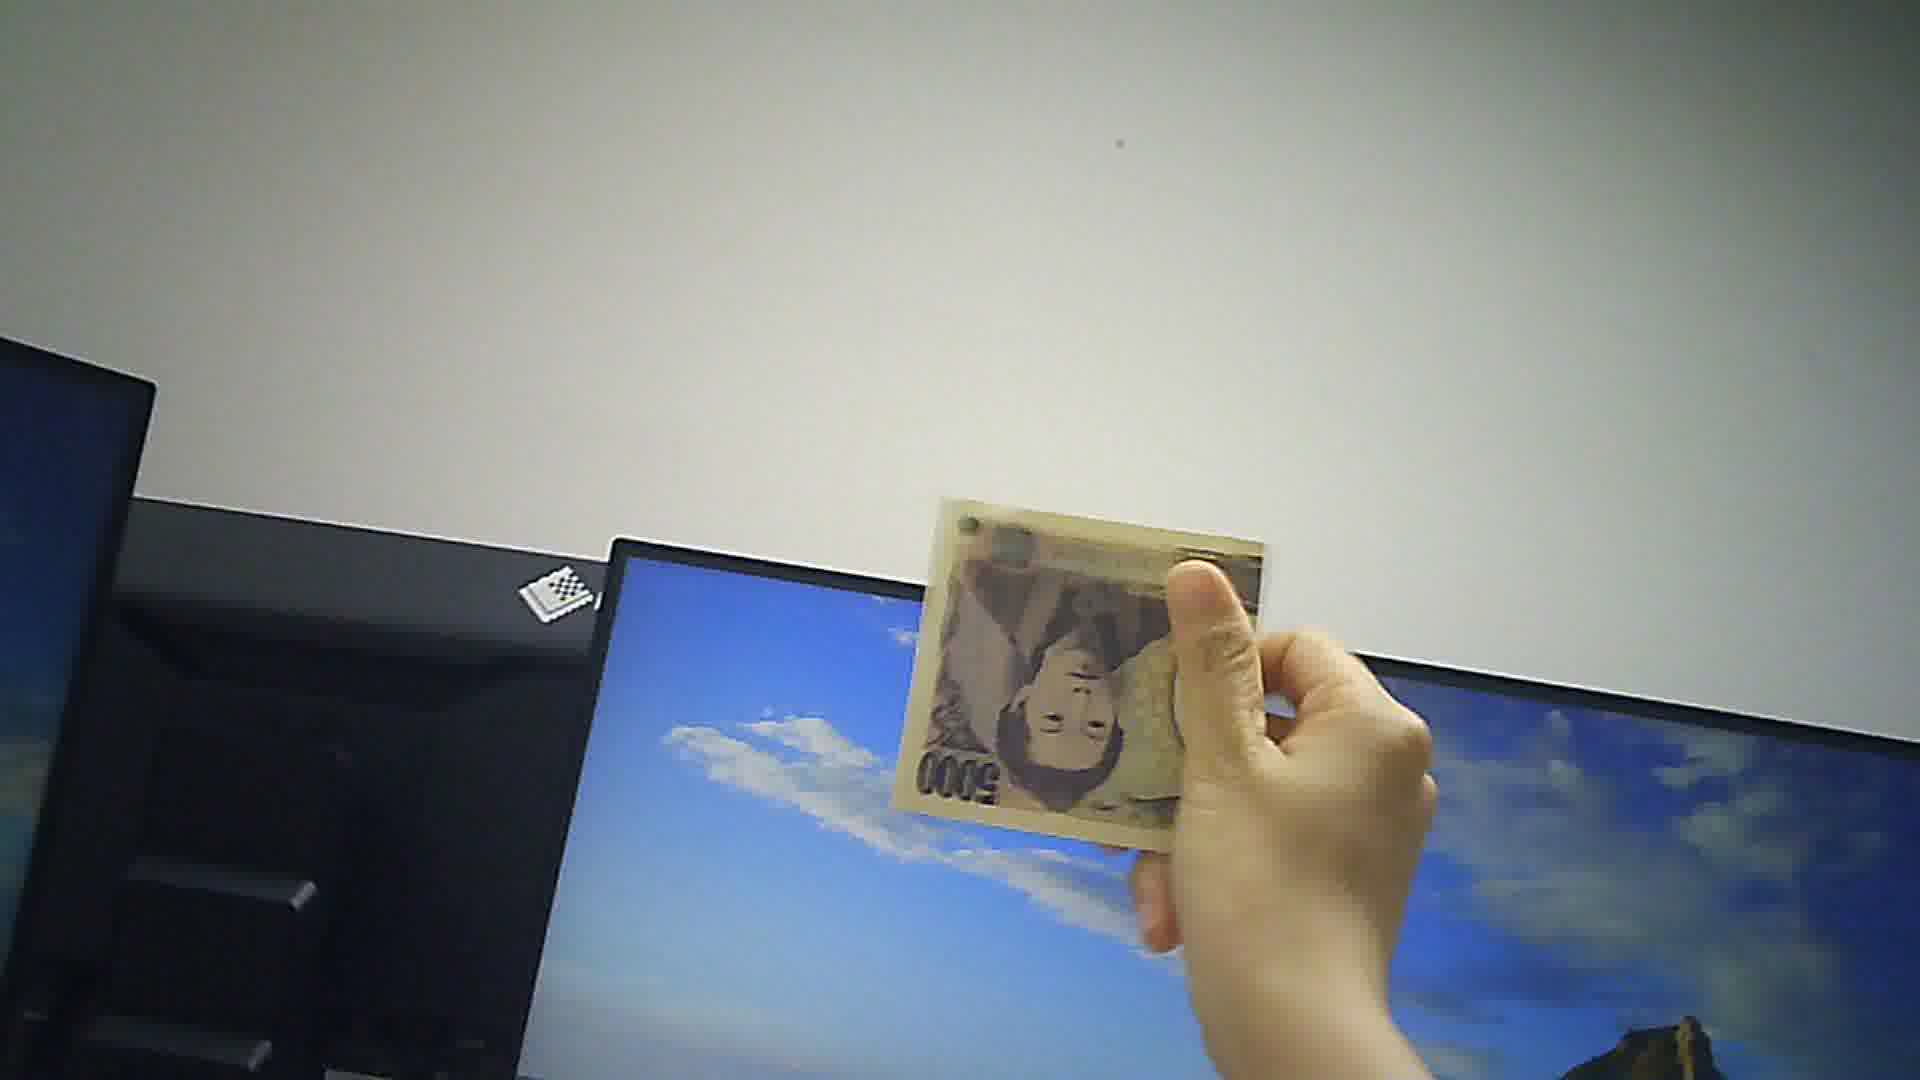5,000 Yen: (897, 487, 1284, 864)
